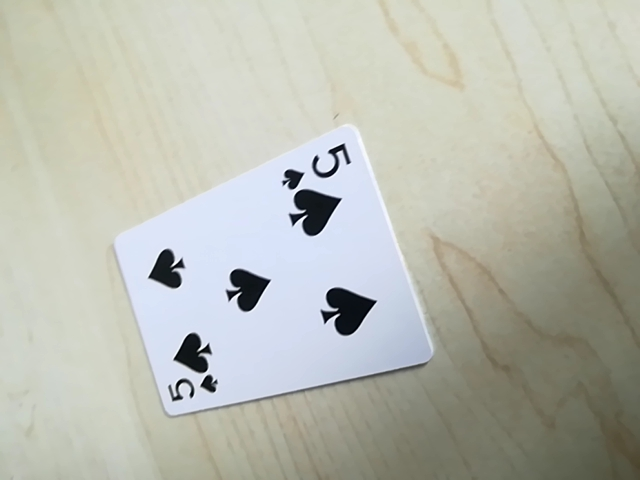ht 5: (281, 140, 355, 188), (160, 366, 223, 410)
